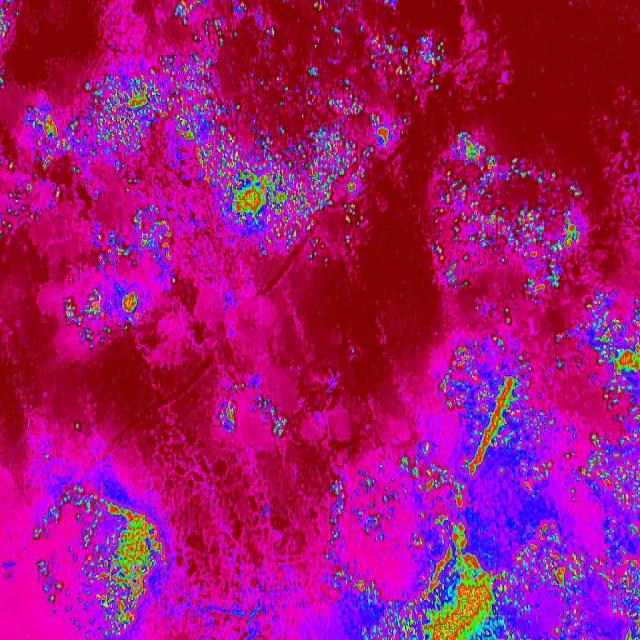fire: (22, 57, 274, 268), (442, 339, 552, 640), (428, 134, 580, 298), (326, 444, 442, 640), (32, 484, 166, 636), (583, 289, 640, 640), (275, 126, 363, 256), (552, 421, 584, 640), (58, 284, 142, 354), (368, 34, 444, 88), (218, 386, 288, 440), (173, 0, 251, 41), (370, 109, 400, 148)
